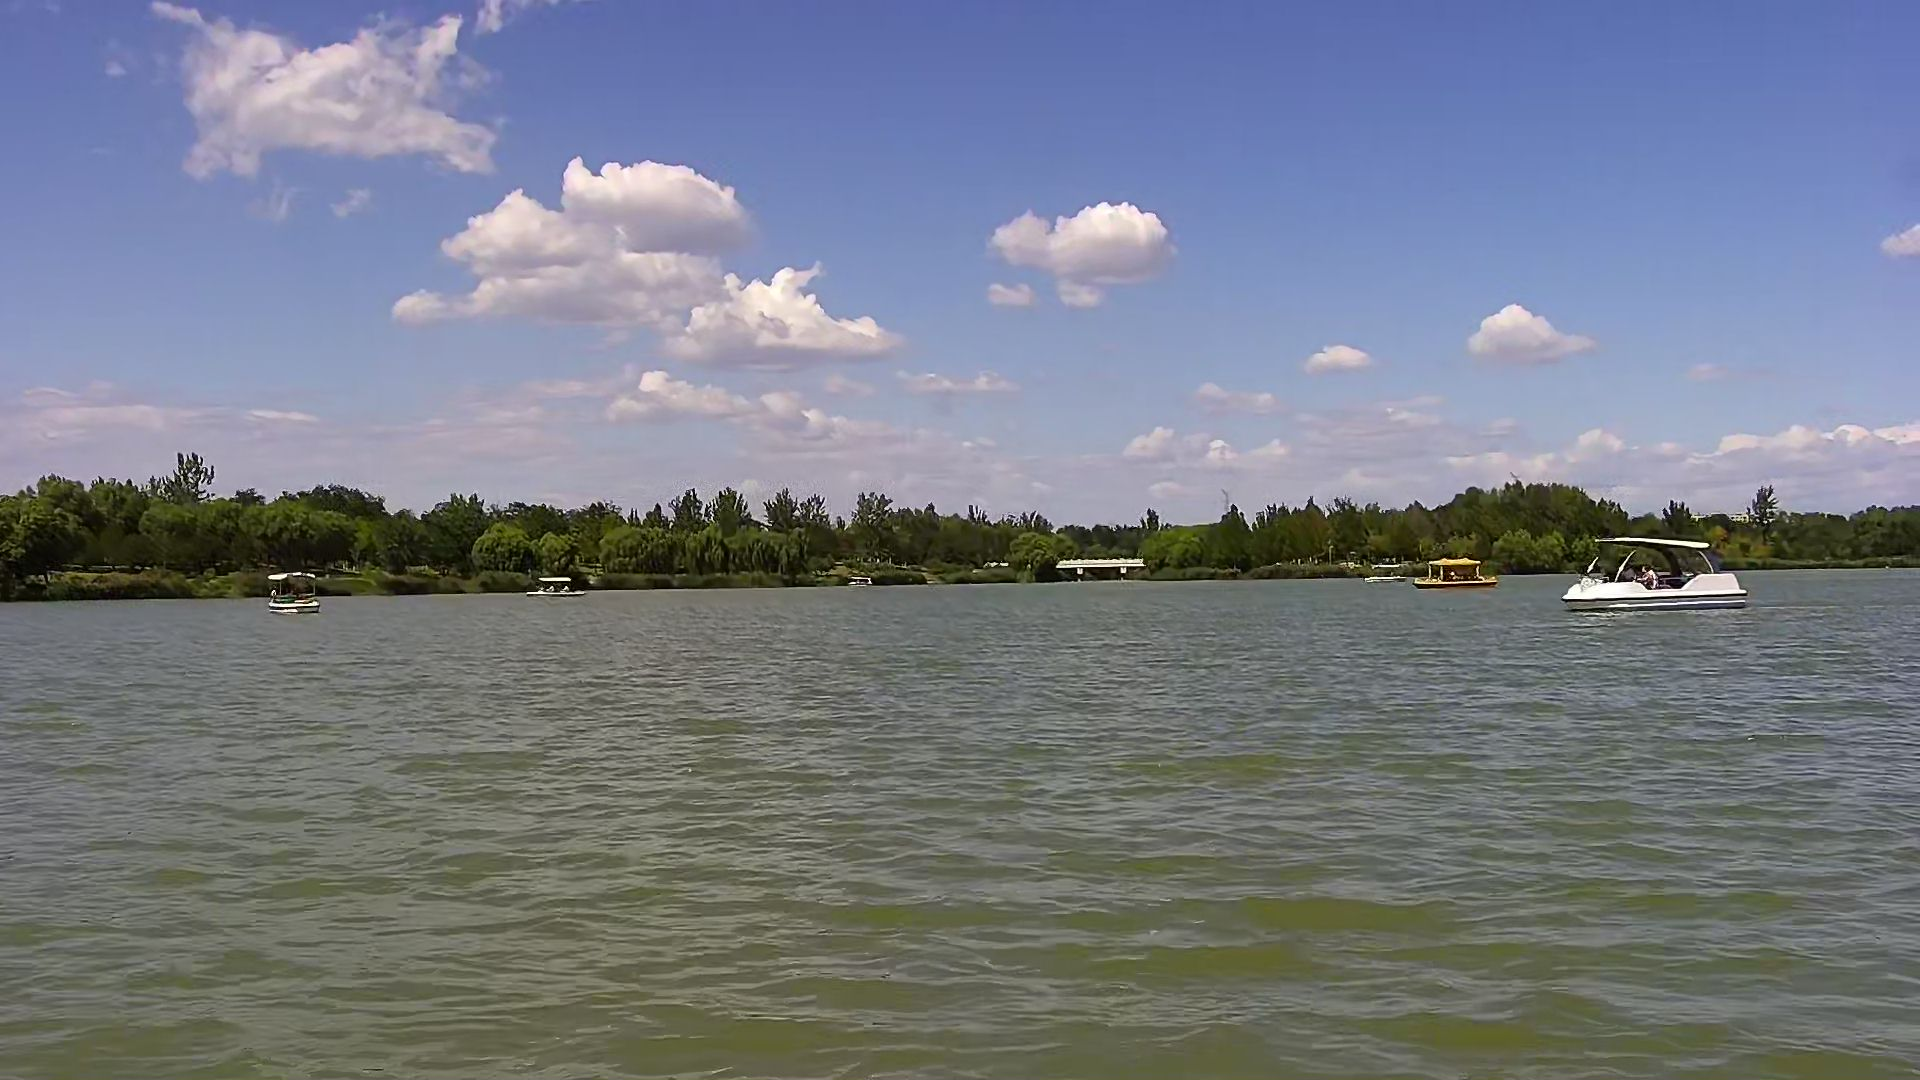boat: (1557, 530, 1751, 626), (270, 567, 315, 612), (1423, 556, 1487, 587), (524, 572, 578, 593), (1360, 560, 1406, 580)
bridge: (1056, 554, 1135, 580)
